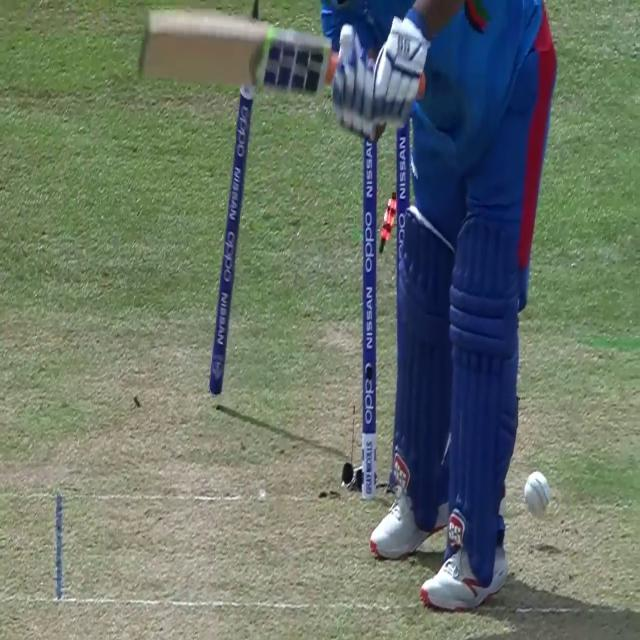ball: (520, 465, 554, 522)
